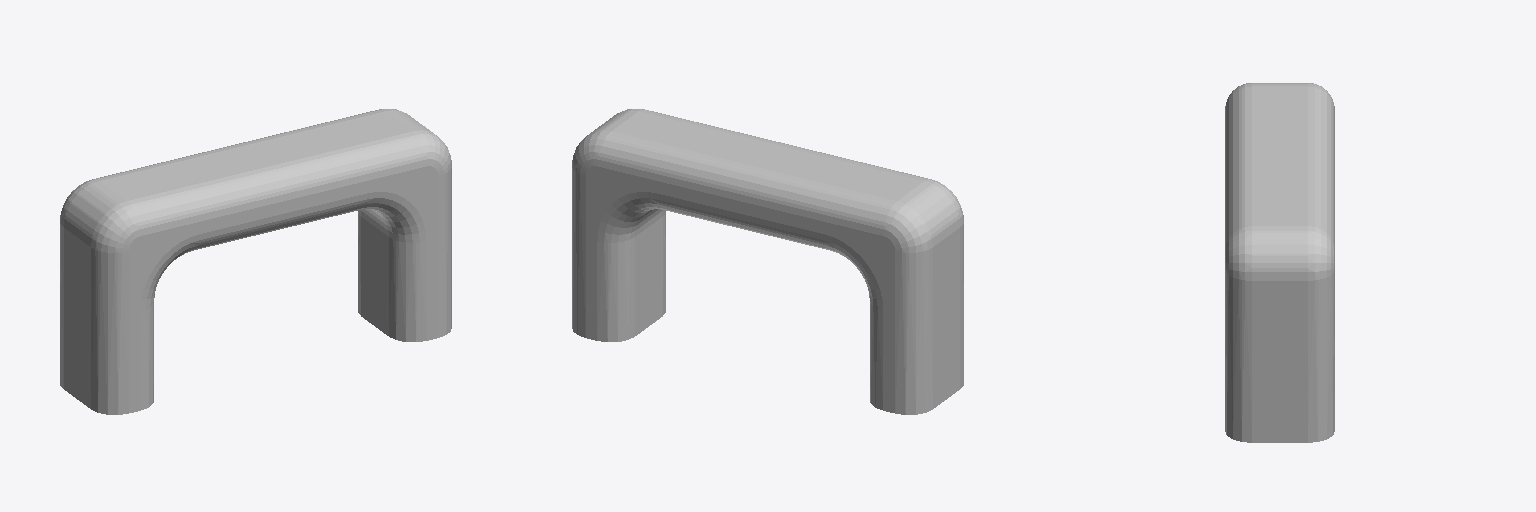
The model's file is switch_link.obj.
3 renders of one model, left to right at view 1: azimuth 30°, elevation 25°; view 2: azimuth 150°, elevation 25°; view 3: azimuth 270°, elevation 25°, orthographic.
Parts seen in each view (by area): view 1: switch_link_switch_link.001; view 2: switch_link_switch_link.001; view 3: switch_link_switch_link.001.
Part boxes in pixels (left/top/right/bottom): switch_link_switch_link.001: left=60, top=109, right=451, bottom=414; switch_link_switch_link.001: left=572, top=109, right=963, bottom=414; switch_link_switch_link.001: left=1225, top=83, right=1334, bottom=442.
Size of the model in its own units: 0.15 by 0.08 by 0.04.